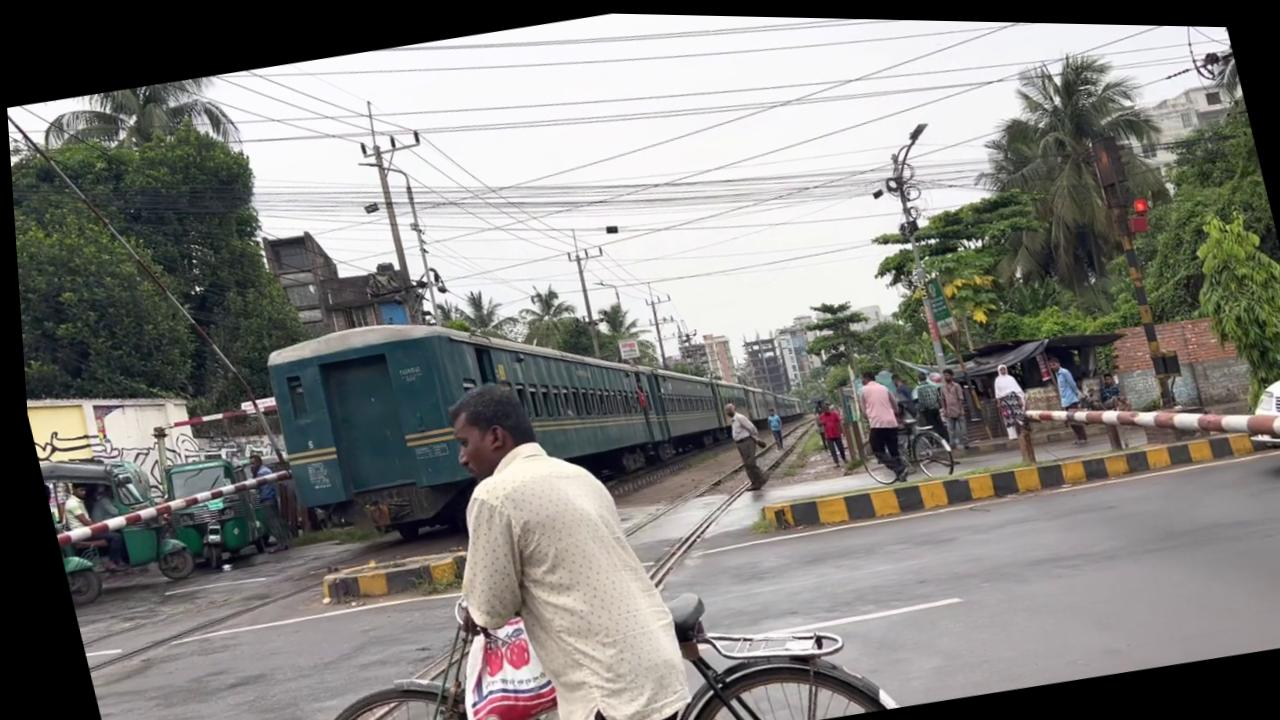Bollard: (1227, 356, 1280, 467)
Car: (746, 409, 1273, 540)
Fence: (402, 356, 692, 720), (236, 449, 285, 551), (716, 394, 768, 488), (1042, 347, 1090, 441), (981, 355, 1029, 436), (757, 402, 781, 447)
Garbage: (1114, 225, 1171, 404)
Motorcycle: (140, 388, 887, 720)
Pole: (1084, 125, 1187, 405)
Potted-plant: (246, 248, 820, 562)
Railroad-crossing: (944, 29, 1200, 326), (1167, 193, 1280, 414)
Rickshaw: (31, 439, 193, 607), (147, 449, 260, 573)
